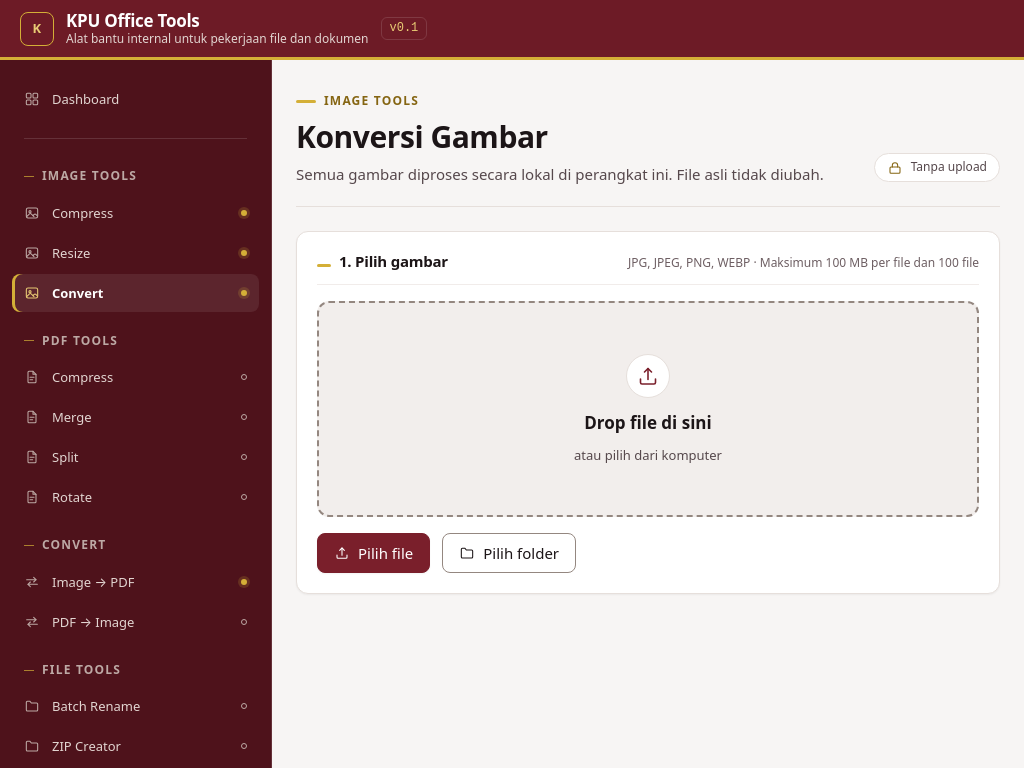
Test: Image Converter › menonaktifkan format tujuan yang sama dengan format gambar
This screenshot has width=1024, height=768.
Click the button "Pilih file" at (374, 553), box x1=317 y1=533 x2=430 y2=573
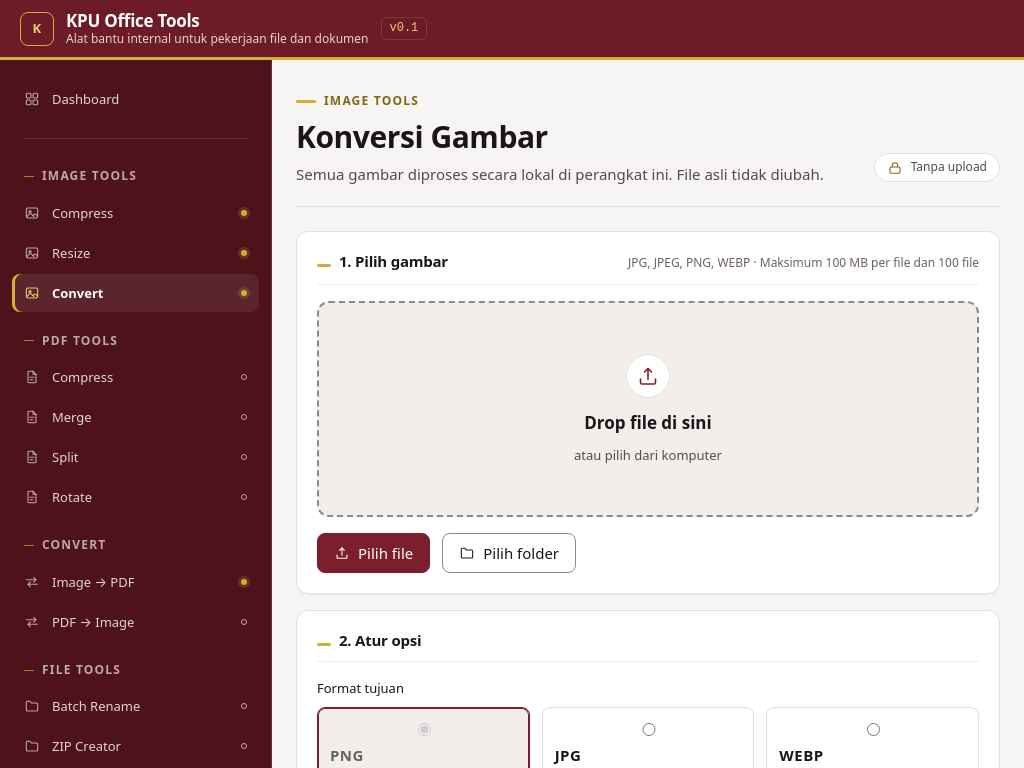
Expected: the heading "2. Atur opsi" is shown, x1=317 y1=631 x2=421 y2=649
Expected: the radio button labelled "PNG Lossless, mendukung transparansi" is disabled, x1=335 y1=723 x2=514 y2=736
Expected: the radio button labelled "WEBP Ringan, mendukung transparansi" is enabled, x1=784 y1=723 x2=963 y2=736
